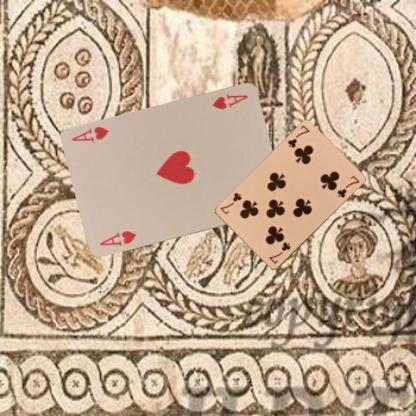7c: (285, 123, 311, 149), (266, 240, 291, 266)
Ah: (209, 91, 250, 111), (97, 228, 138, 248)
